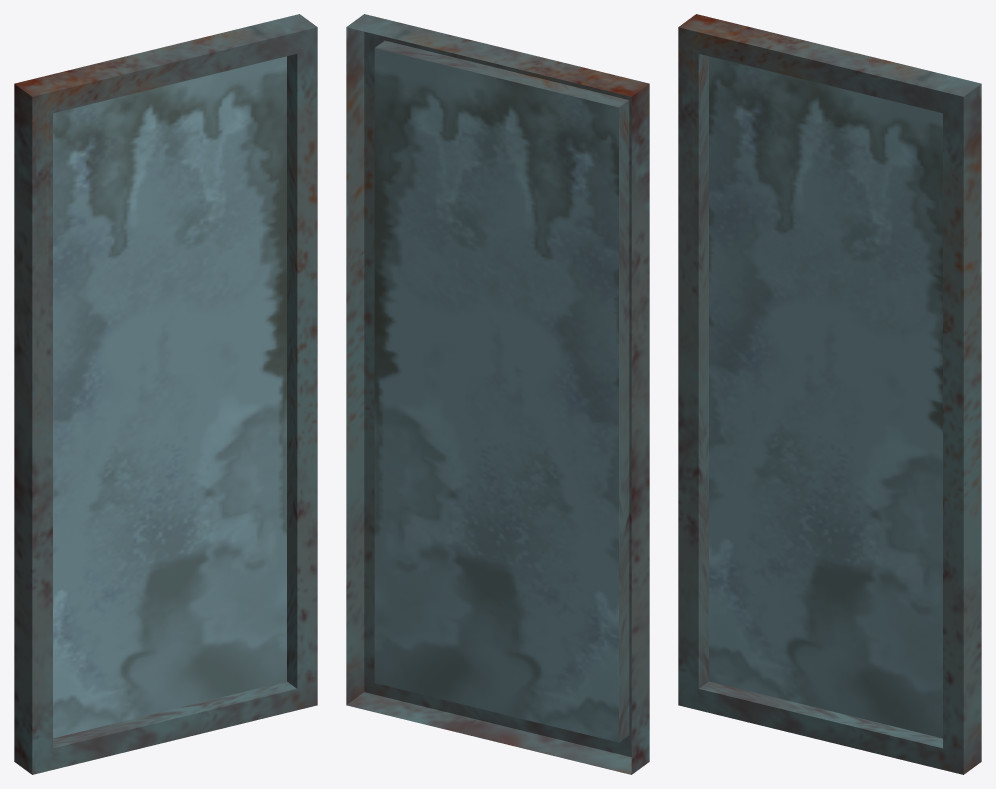
File: PortaSemDivisoria.fbx
3 views of the same model, side by side, from view 1: azimuth 30°, elevation 25°; view 2: azimuth 150°, elevation 25°; view 3: azimuth 330°, elevation 25° (orthographic).
Parts seen in each view (by area): view 1: PortaSemDivisoria; view 2: PortaSemDivisoria; view 3: PortaSemDivisoria.
Boxes of the visible parts, <box> form: PortaSemDivisoria: <box>14,14,317,774</box>; PortaSemDivisoria: <box>346,14,649,774</box>; PortaSemDivisoria: <box>678,14,981,774</box>.
Size of the model in its own units: 262 by 596 by 28.8.
